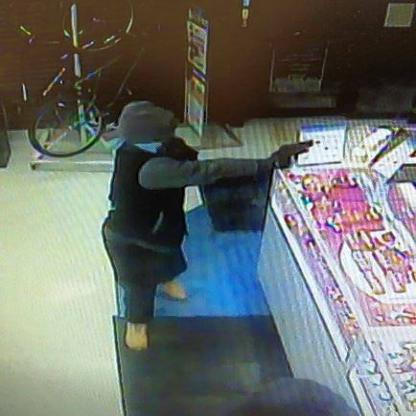pistol: (272, 136, 318, 172)
